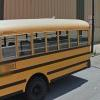Bus: (4, 13, 93, 94)
